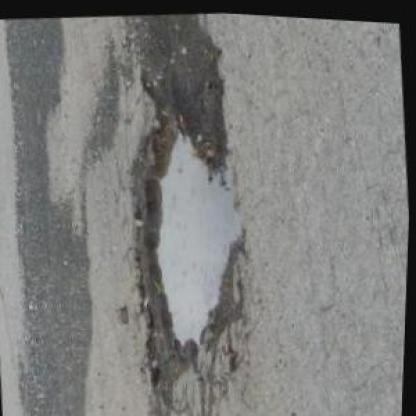pothole: (108, 98, 262, 391)
